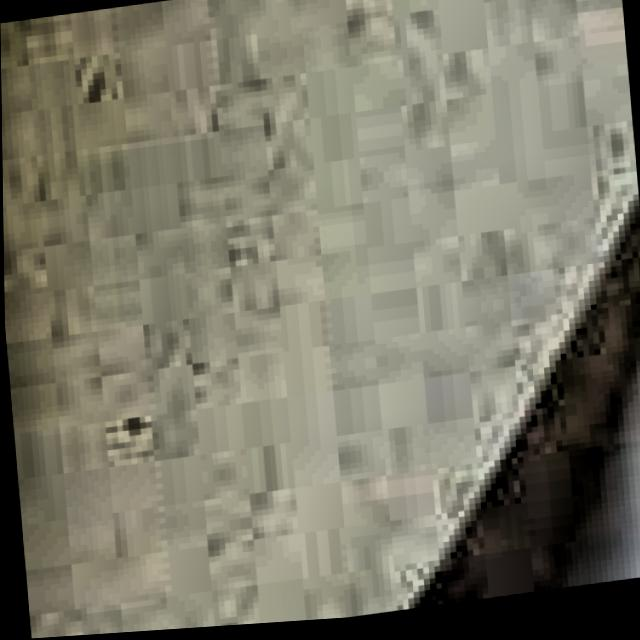paper: (0, 0, 638, 639)
